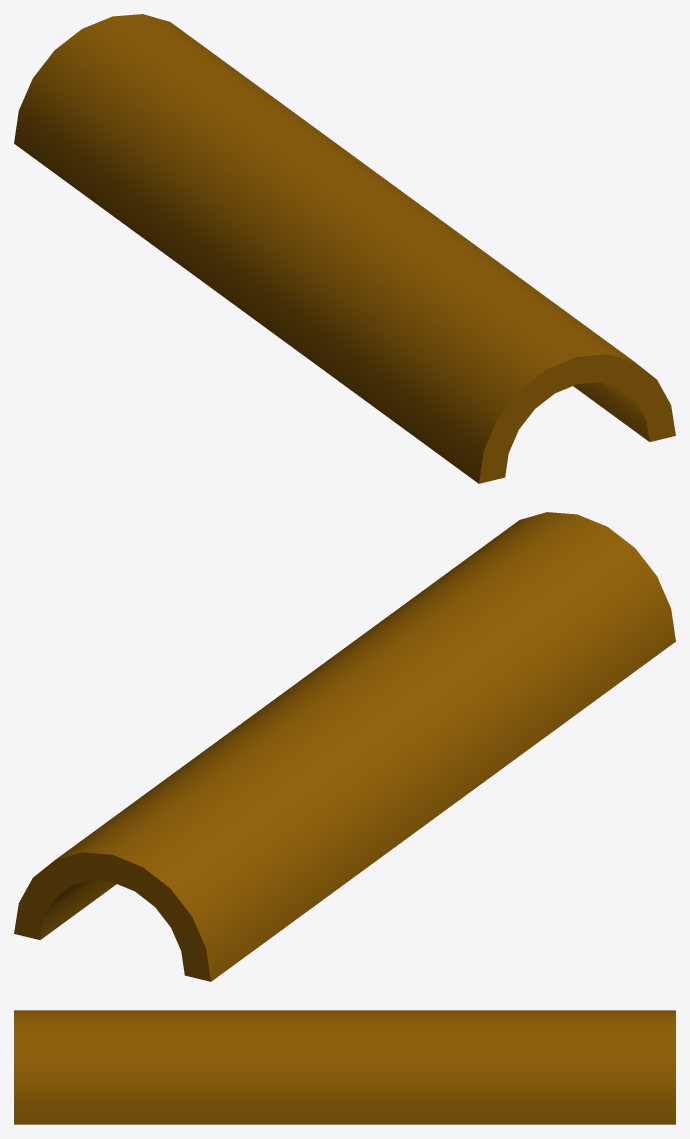
File: halfLog.fbx
The picture shows the model from 3 angles, top to bottom: view 1: azimuth 30°, elevation 25°; view 2: azimuth 150°, elevation 25°; view 3: azimuth 270°, elevation 25°; orthographic projection. The views are drawn at different scales.
Visible parts, largest first — view 1: pPipe1; view 2: pPipe1; view 3: pPipe1.
Boxes of the visible parts, x1,y1,x2,y2 form: pPipe1: (14, 14, 675, 483); pPipe1: (14, 512, 675, 981); pPipe1: (14, 1010, 675, 1124).
Size of the model in its own units: 10.22 by 5.11 by 41.77.
